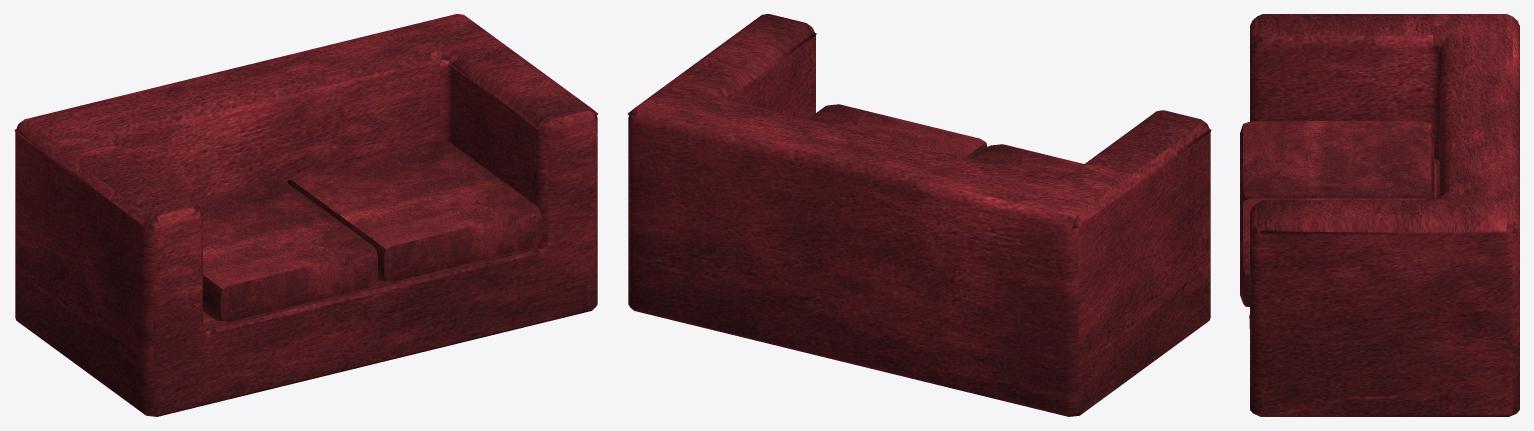
Rendered from Smooth Couch.FBX.
3 renders of one model, left to right at view 1: azimuth 30°, elevation 25°; view 2: azimuth 150°, elevation 25°; view 3: azimuth 270°, elevation 25°, orthographic. The views are drawn at different scales.
Visible parts, largest first — view 1: Box001, Box005, Box002; view 2: Box001, Box005, Box002; view 3: Box001, Box002, Box005.
Boxes of the visible parts, box(x1,y1,x2,y2) form: Box001: box(14, 14, 598, 416); Box005: box(287, 140, 541, 281); Box002: box(191, 180, 377, 321); Box001: box(627, 14, 1211, 416); Box005: box(808, 104, 987, 158); Box002: box(972, 144, 1083, 178); Box001: box(1249, 14, 1519, 416); Box002: box(1240, 121, 1434, 209); Box005: box(1240, 198, 1427, 307).
Bounding box in the file's own units: 87.01 × 36.83 × 47.93.
